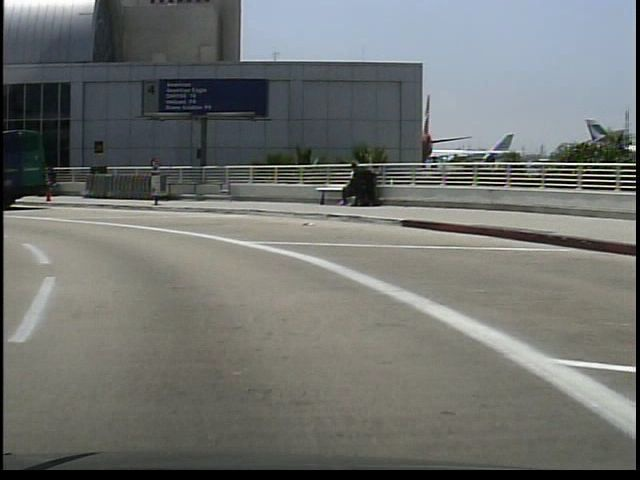person: (42, 163, 61, 201)
